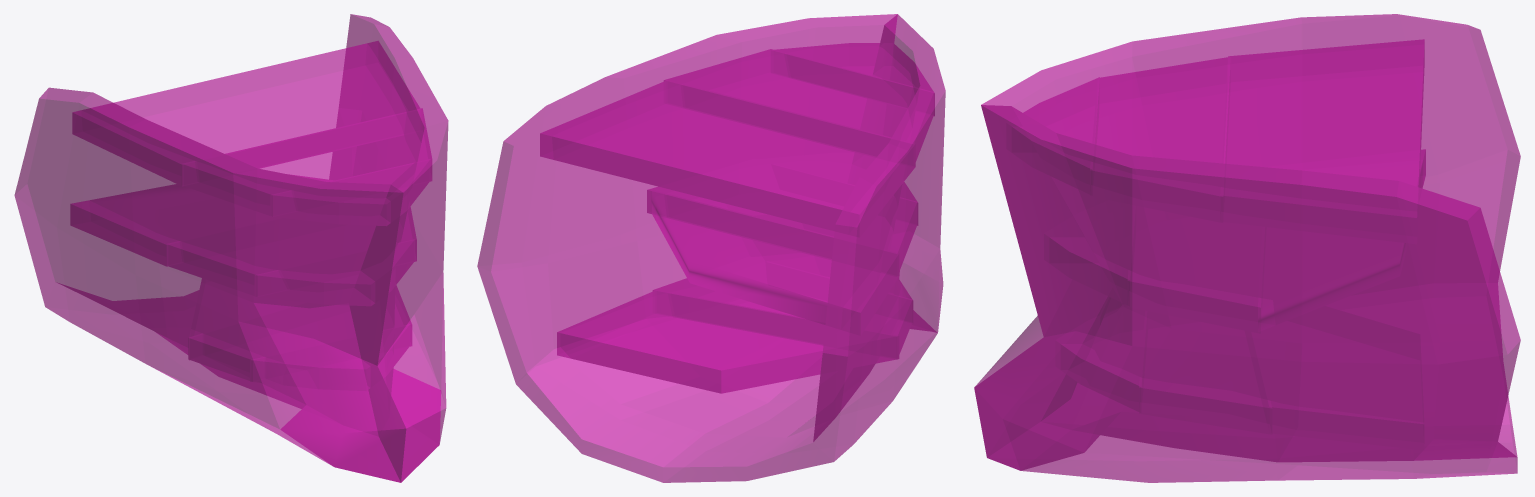
File: SM_Prop_Ship_Wrecked_Front_01_Collision.fbx
3 renders of one model, left to right at view 1: azimuth 30°, elevation 25°; view 2: azimuth 150°, elevation 25°; view 3: azimuth 270°, elevation 25°, orthographic. The views are drawn at different scales.
Parts seen in each view (by area): view 1: SM_Prop_Ship_Wrecked_Front_01_Collision; view 2: SM_Prop_Ship_Wrecked_Front_01_Collision; view 3: SM_Prop_Ship_Wrecked_Front_01_Collision.
Part boxes in pixels (box(x1,y1,x2,y2)): SM_Prop_Ship_Wrecked_Front_01_Collision: box(14, 14, 448, 482); SM_Prop_Ship_Wrecked_Front_01_Collision: box(477, 14, 945, 482); SM_Prop_Ship_Wrecked_Front_01_Collision: box(974, 14, 1520, 482).
Bounding box in the file's own units: 1288 × 1068 × 1450.
